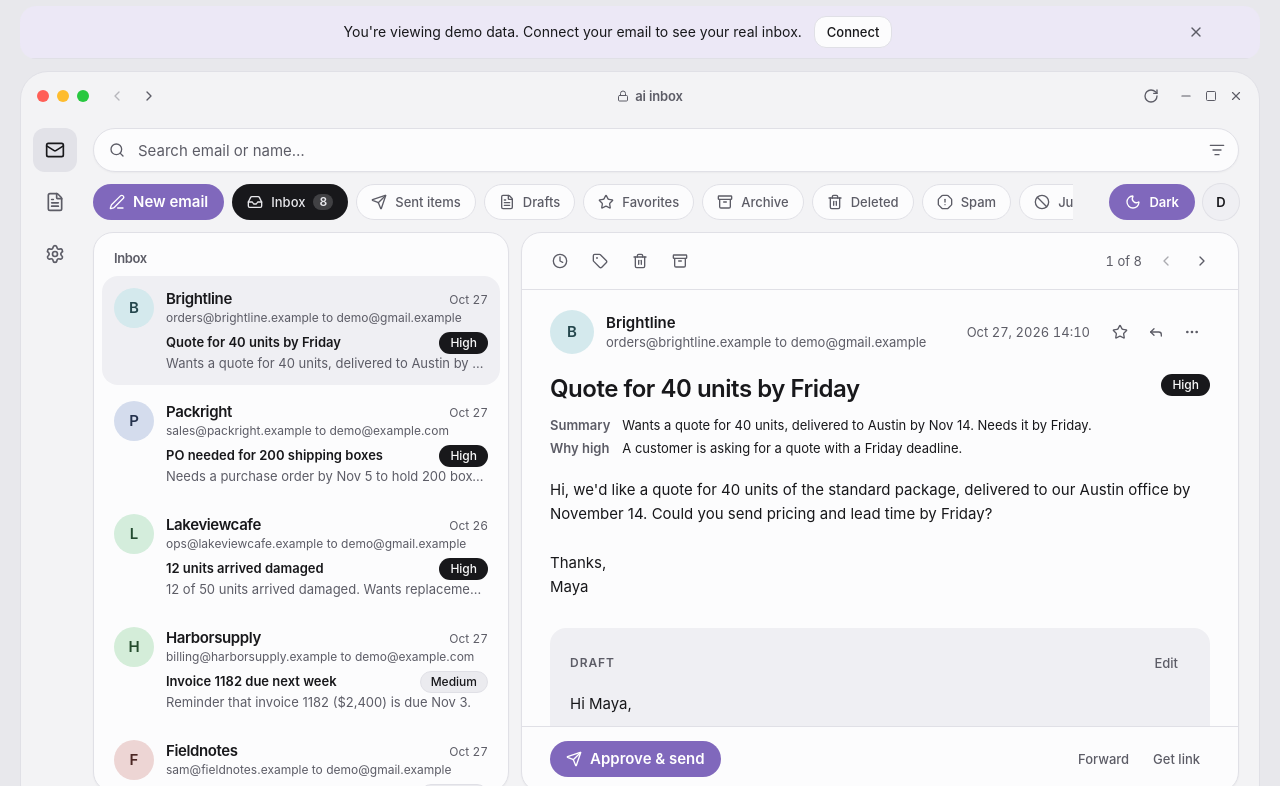
Test case: app › saves edits to the reply and form before approval
Click the button "Edit": point(1166, 664) top-left (1142, 648), bottom-right (1190, 680)
(page scrolled)
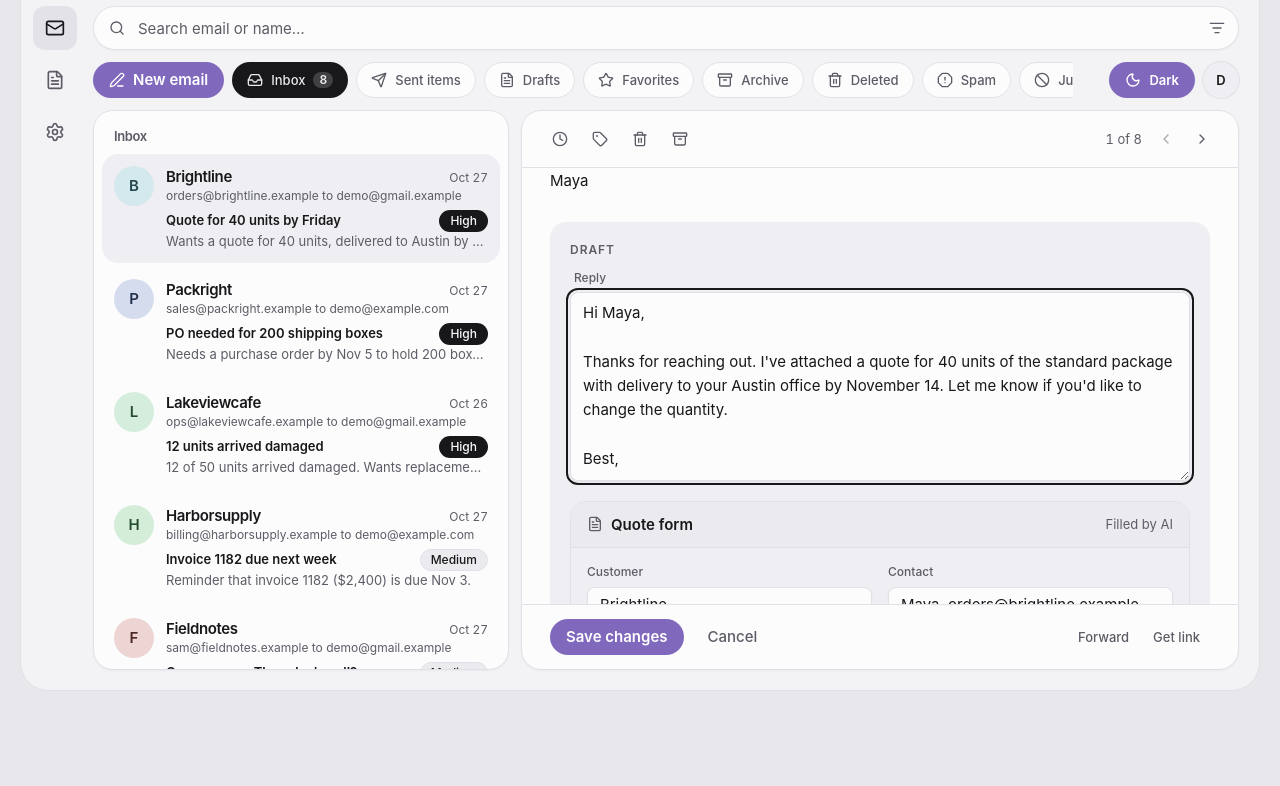
Now the button "Approve & send" is gone
Clear the text box labelled "Reply": point(880, 386) top-left (570, 292), bottom-right (1190, 480)
(page scrolled)
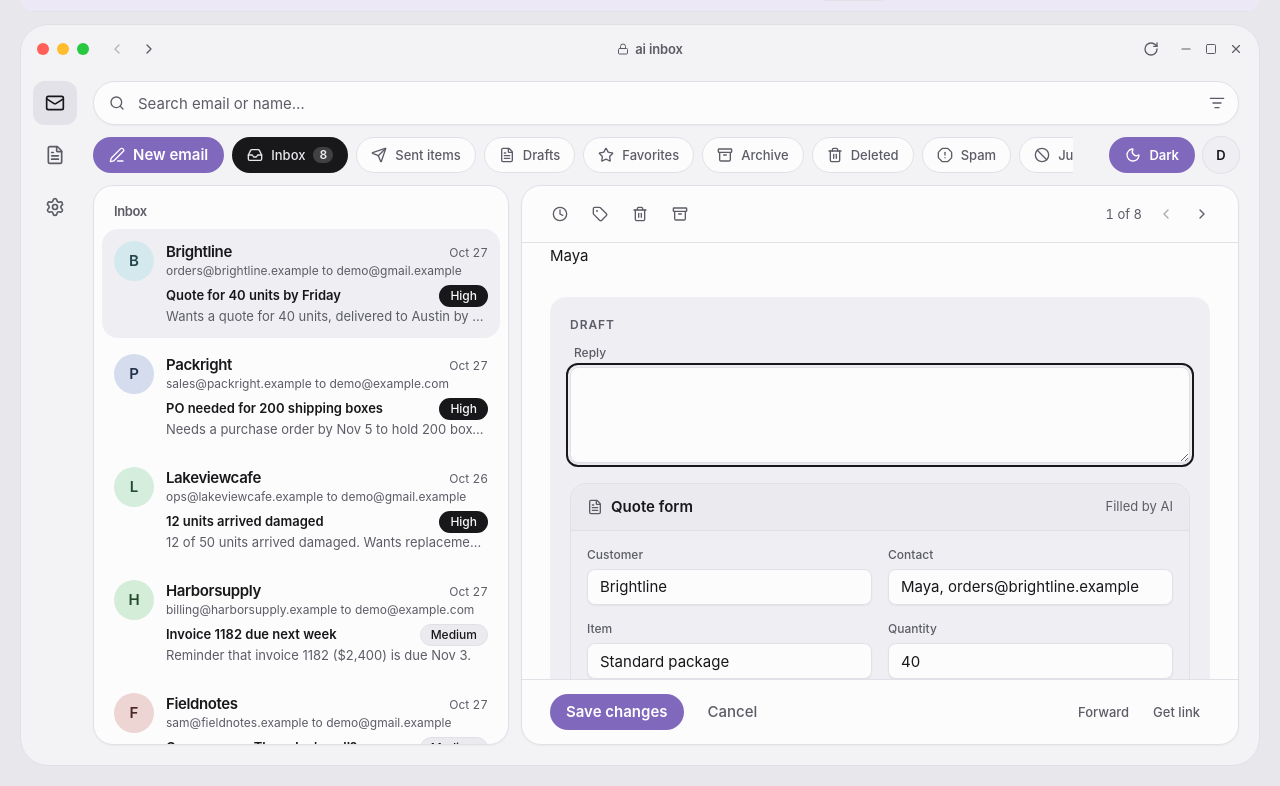
In the text box labelled "Reply": point(880, 415) top-left (570, 367), bottom-right (1190, 463), type "Quote attached for 45 units."
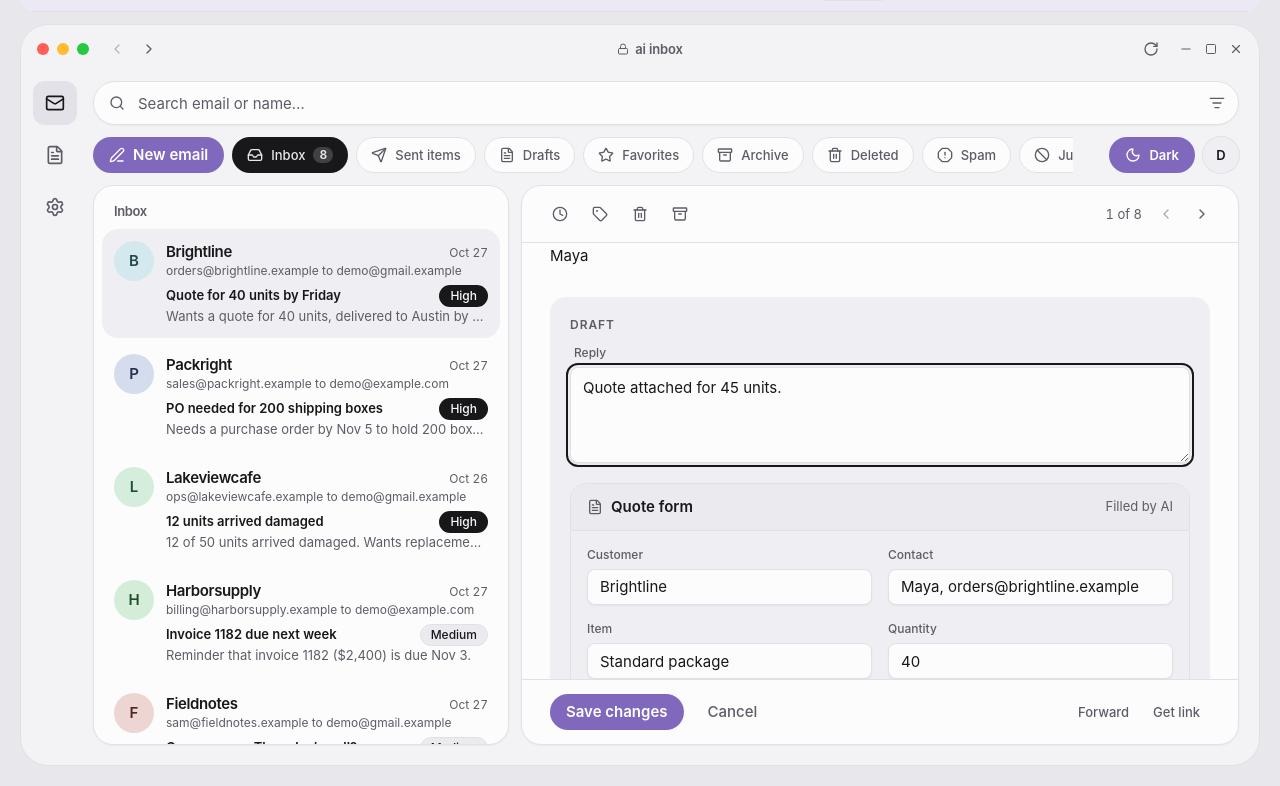
Replace the text in the field labelled "Quantity" with "45": point(1030, 661) top-left (888, 643), bottom-right (1173, 679)
(page scrolled)
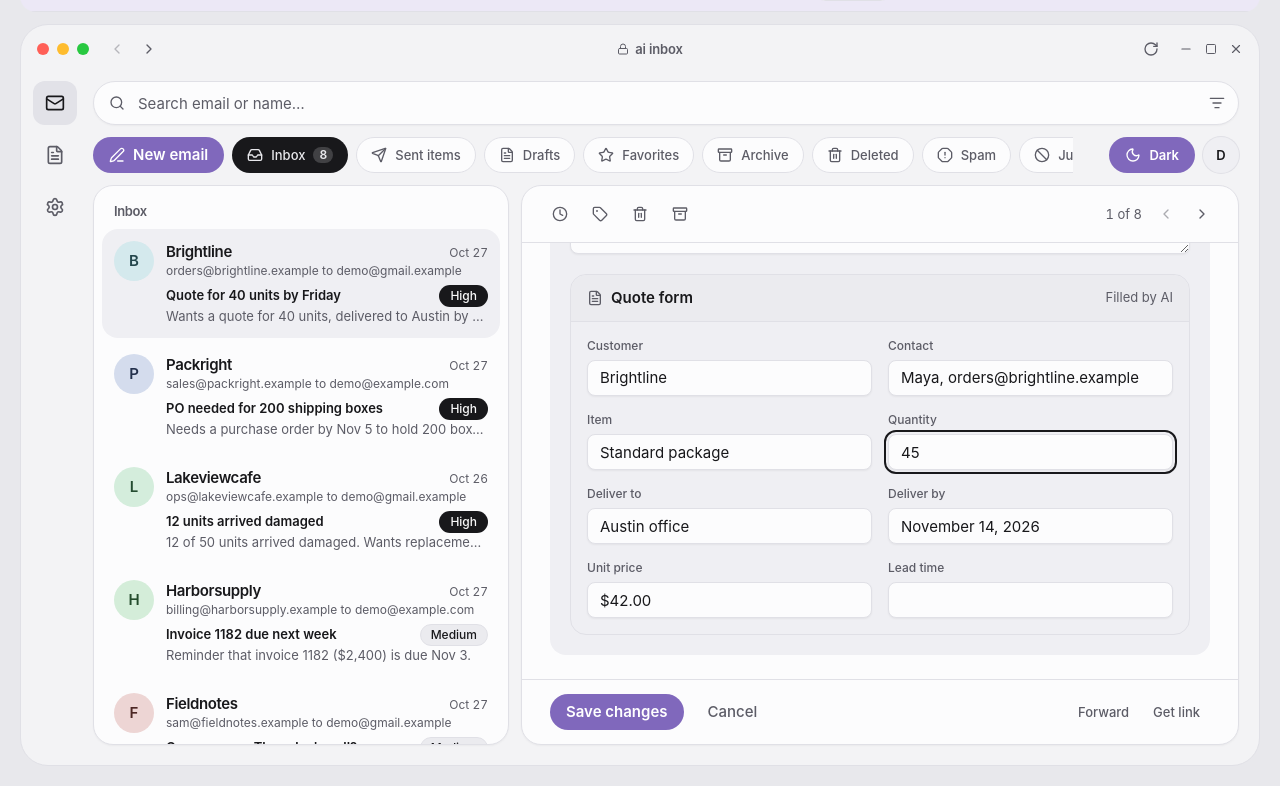
In the field labelled "Lead time": point(1030, 600) top-left (888, 582), bottom-right (1173, 618), type "2 weeks"
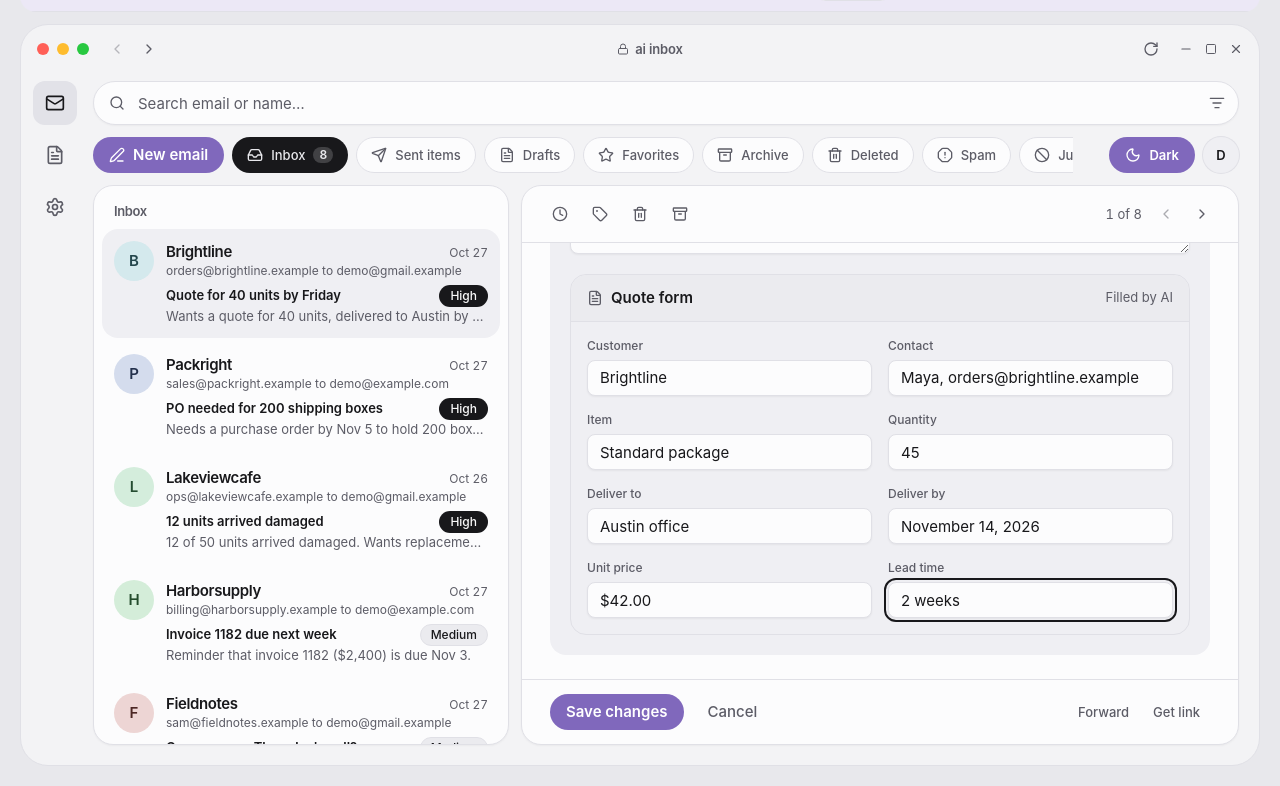
Click the button "Save changes": point(617, 712) top-left (550, 694), bottom-right (684, 730)
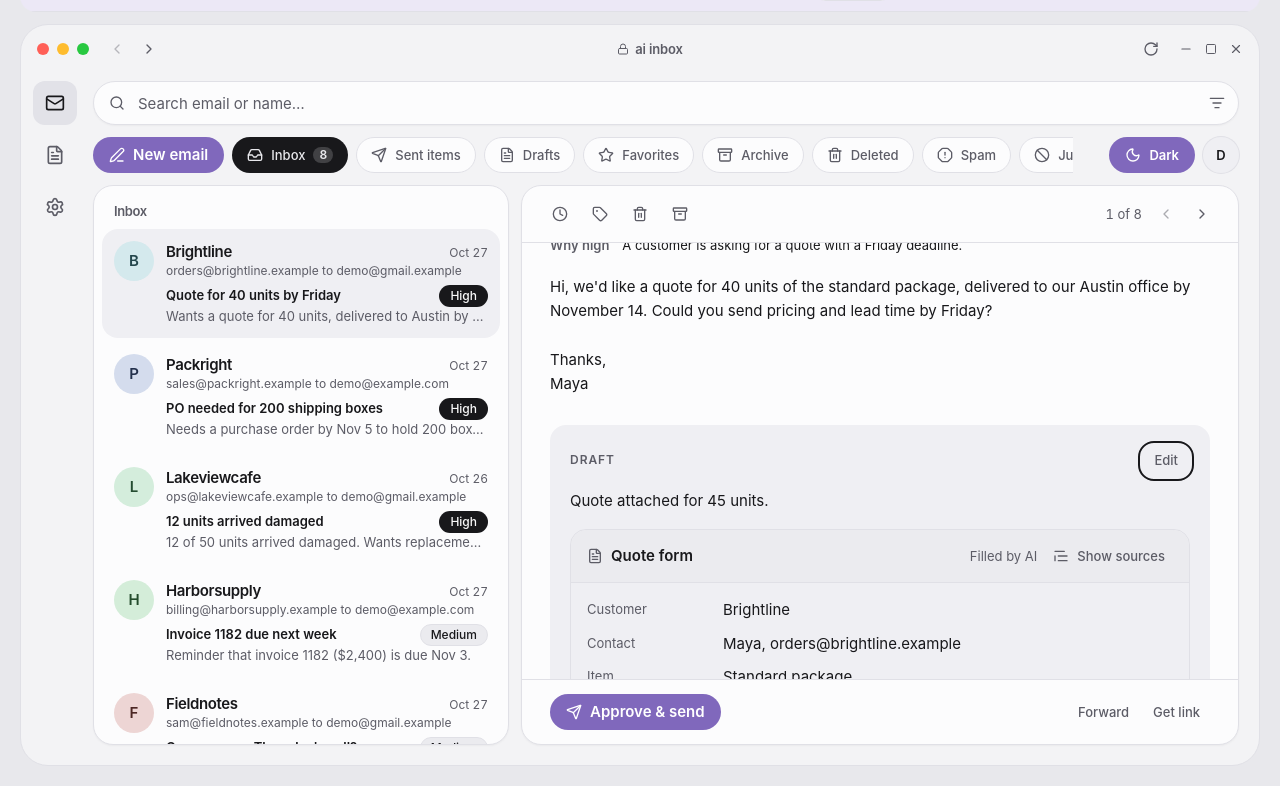
Now the text "Quote attached for 45 units." is shown, box top-left (570, 491), bottom-right (768, 510)
Now the button "Approve & send" is enabled, box top-left (550, 694), bottom-right (721, 730)
